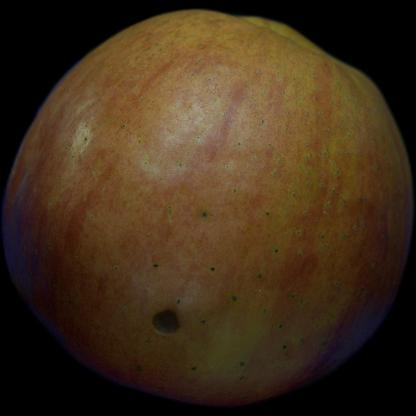defect: (137, 290, 209, 352)
